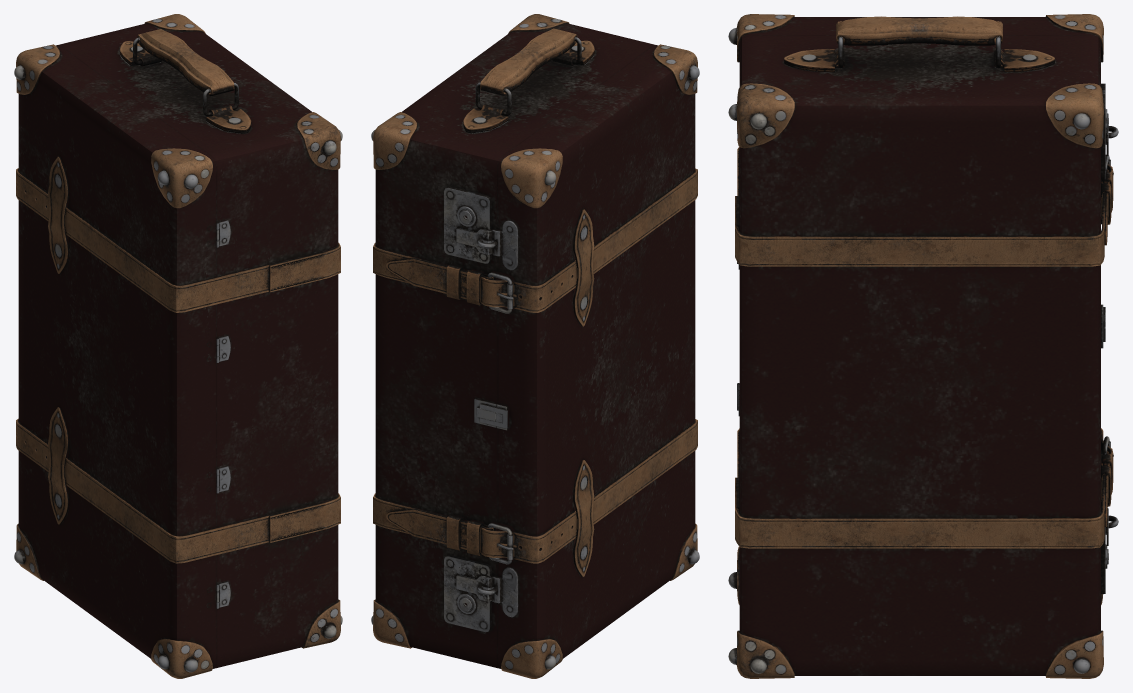
The model's file is SM_TravelCase_Vertical.fbx.
The picture shows the model from 3 angles, left to right: view 1: azimuth 30°, elevation 25°; view 2: azimuth 150°, elevation 25°; view 3: azimuth 270°, elevation 25°; orthographic projection. The views are drawn at different scales.
Visible parts, largest first — view 1: SM_TravelCase_Vertical_LOD0; view 2: SM_TravelCase_Vertical_LOD0; view 3: SM_TravelCase_Vertical_LOD0.
Boxes of the visible parts, left/top/right/bottom form: SM_TravelCase_Vertical_LOD0: left=14, top=14, right=342, bottom=678; SM_TravelCase_Vertical_LOD0: left=371, top=14, right=699, bottom=678; SM_TravelCase_Vertical_LOD0: left=728, top=14, right=1118, bottom=678.
Bounding box in the file's own units: 46.78 × 76.72 × 134.
Materials: 1 (1 with a texture image).
